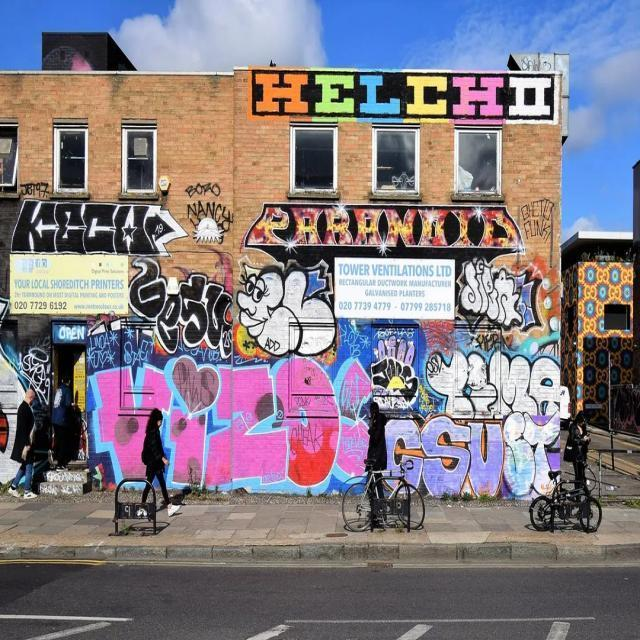nonspitting: (91, 355, 370, 487), (249, 65, 559, 125), (246, 203, 520, 249), (10, 199, 186, 258), (130, 256, 233, 356), (383, 414, 501, 497), (238, 265, 336, 356), (427, 352, 560, 417), (461, 258, 539, 330), (503, 411, 561, 497), (372, 337, 418, 405), (188, 200, 234, 244), (20, 349, 54, 402), (523, 198, 555, 242), (84, 332, 118, 368), (338, 323, 370, 355), (125, 328, 150, 365), (475, 333, 511, 351), (185, 182, 221, 198), (20, 183, 50, 198)
